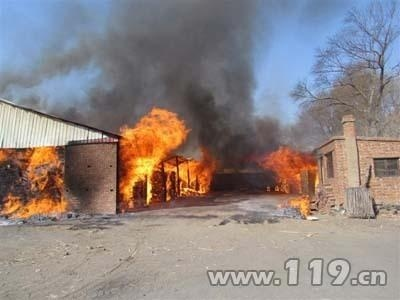fire: (116, 106, 217, 205), (0, 145, 69, 219), (259, 144, 322, 216)
